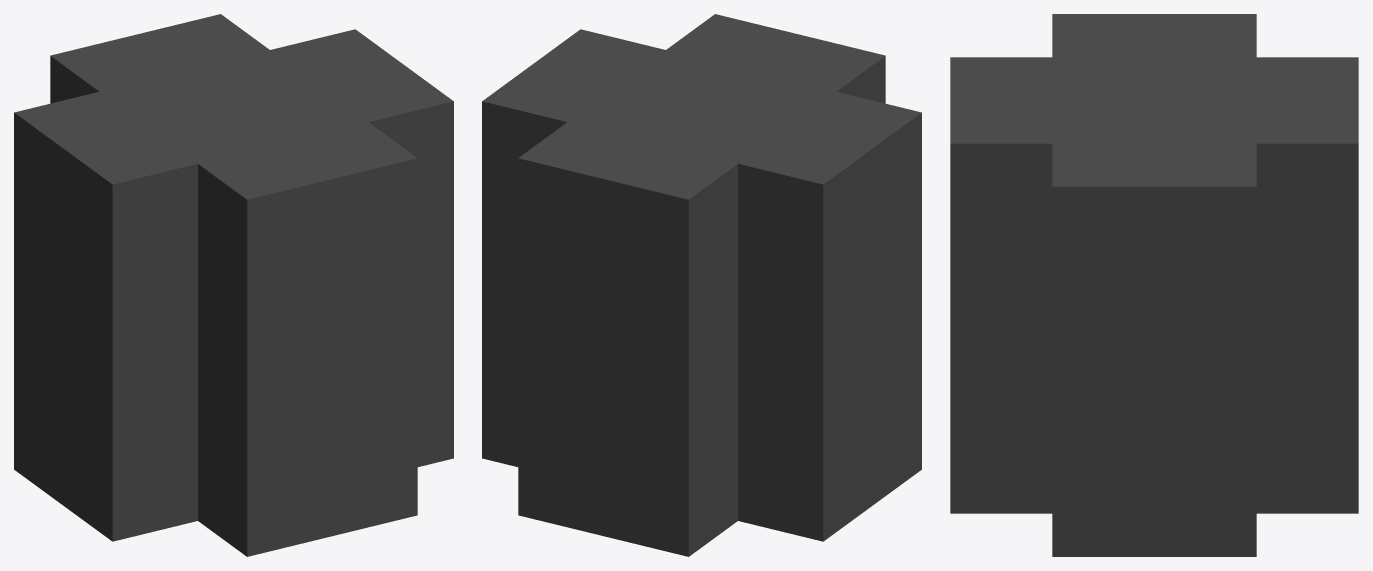
File: BedroomandMainRoom-14.obj
The picture shows the model from 3 angles, left to right: view 1: azimuth 30°, elevation 25°; view 2: azimuth 150°, elevation 25°; view 3: azimuth 270°, elevation 25°; orthographic projection. The views are drawn at different scales.
Size of the model in its own units: 0.4 by 0.4 by 0.4.
1 material, 1 textured.
